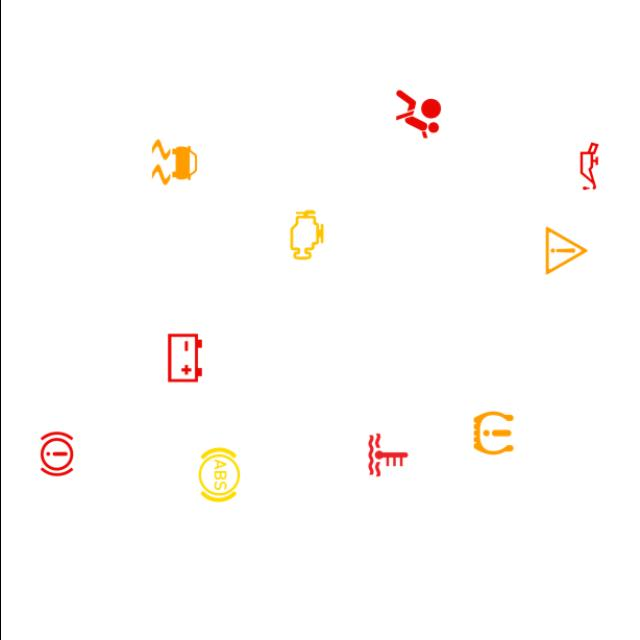Anti Lock Braking System: (188, 445, 248, 505)
Braking System Issue: (26, 424, 86, 484)
Charging System Issue: (154, 328, 214, 388)
Check Engine: (276, 205, 336, 265)
Electronic Stability Problem -ESP-: (144, 132, 204, 192)
Engine Overheating Warning Light: (357, 425, 417, 485)
Low Engine Oil Warning Light: (558, 136, 618, 196)
Low Tire Pressure Warning Light: (462, 403, 522, 463)
Master warning light: (536, 220, 596, 280)
SRS-Airbag: (388, 84, 448, 144)
